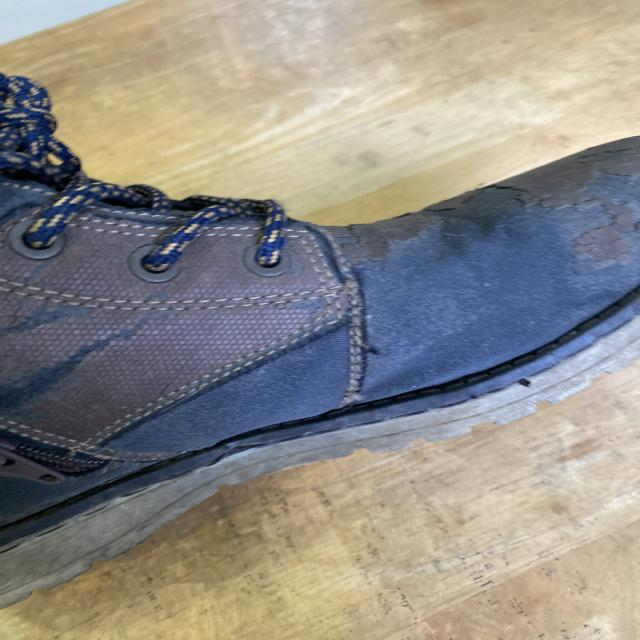broken: (337, 324, 392, 363), (330, 378, 379, 411)
